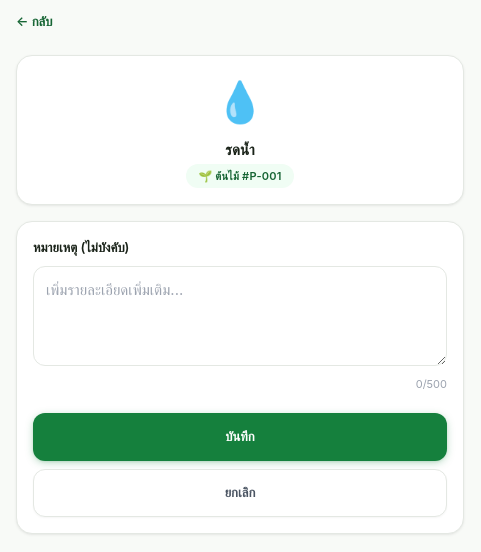
Test: ActionForm › notes textarea › updates character counter as user types
Type "ABC" into the text box at (240, 316), box [33, 266, 447, 366]
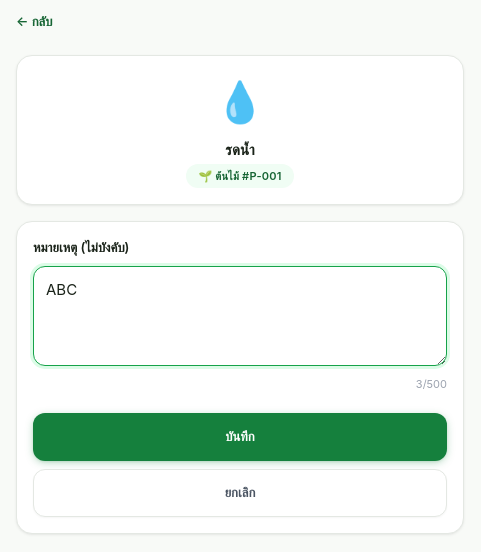
Expected: the text "3/500" is shown, [416, 377, 447, 391]
